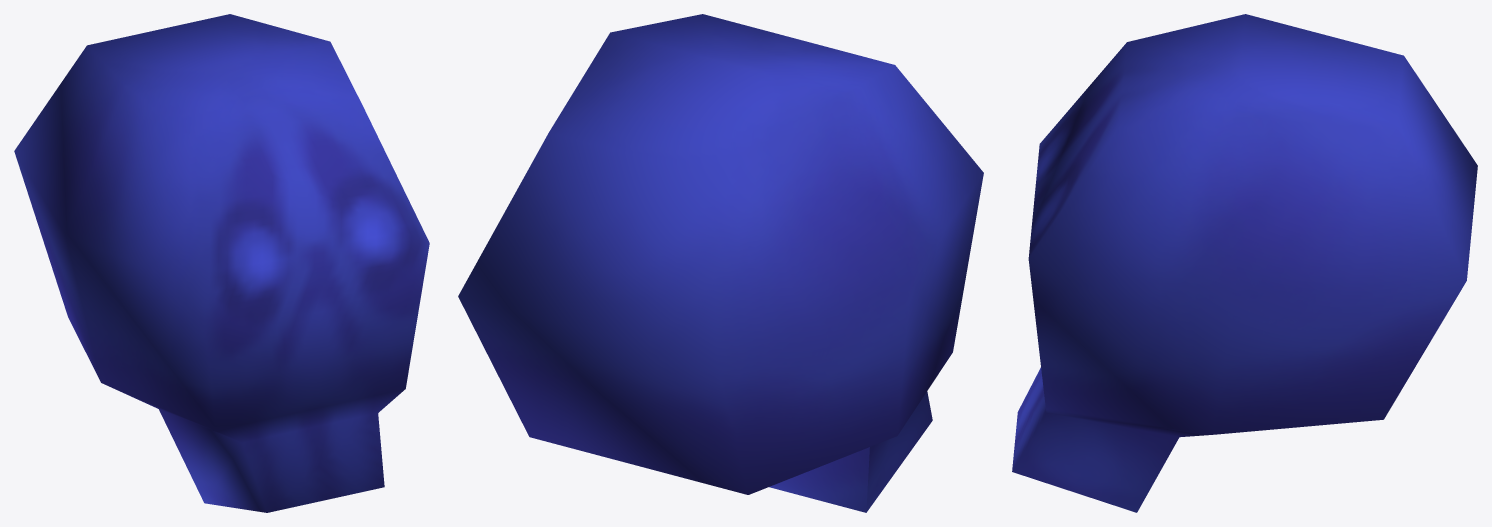
The model's file is soul_blue.glb.
The picture shows the model from 3 angles, left to right: view 1: azimuth 30°, elevation 25°; view 2: azimuth 150°, elevation 25°; view 3: azimuth 270°, elevation 25°; orthographic projection. The views are drawn at different scales.
Parts seen in each view (by area): view 1: lich.001; view 2: lich.001; view 3: lich.001.
Part boxes in pixels (x1=…): lich.001: x1=14, y1=14, x2=429, y2=512; lich.001: x1=458, y1=14, x2=983, y2=512; lich.001: x1=1012, y1=14, x2=1477, y2=512.
Size of the model in its own units: 4.44 by 5.26 by 5.34.
1 material, 1 textured.
